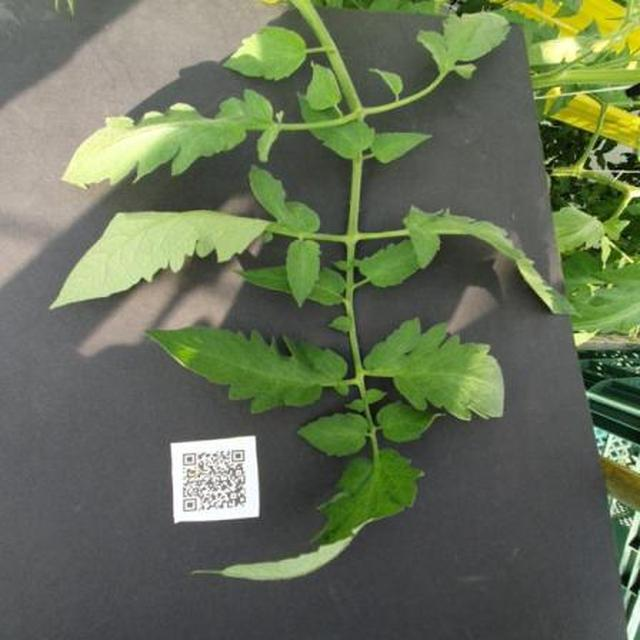Healthy Leaf: (53, 64, 640, 640)
